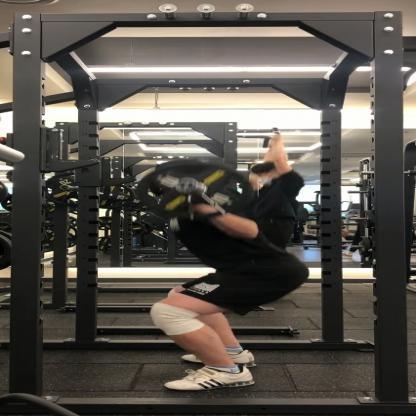Barbell: (168, 177, 207, 196)
